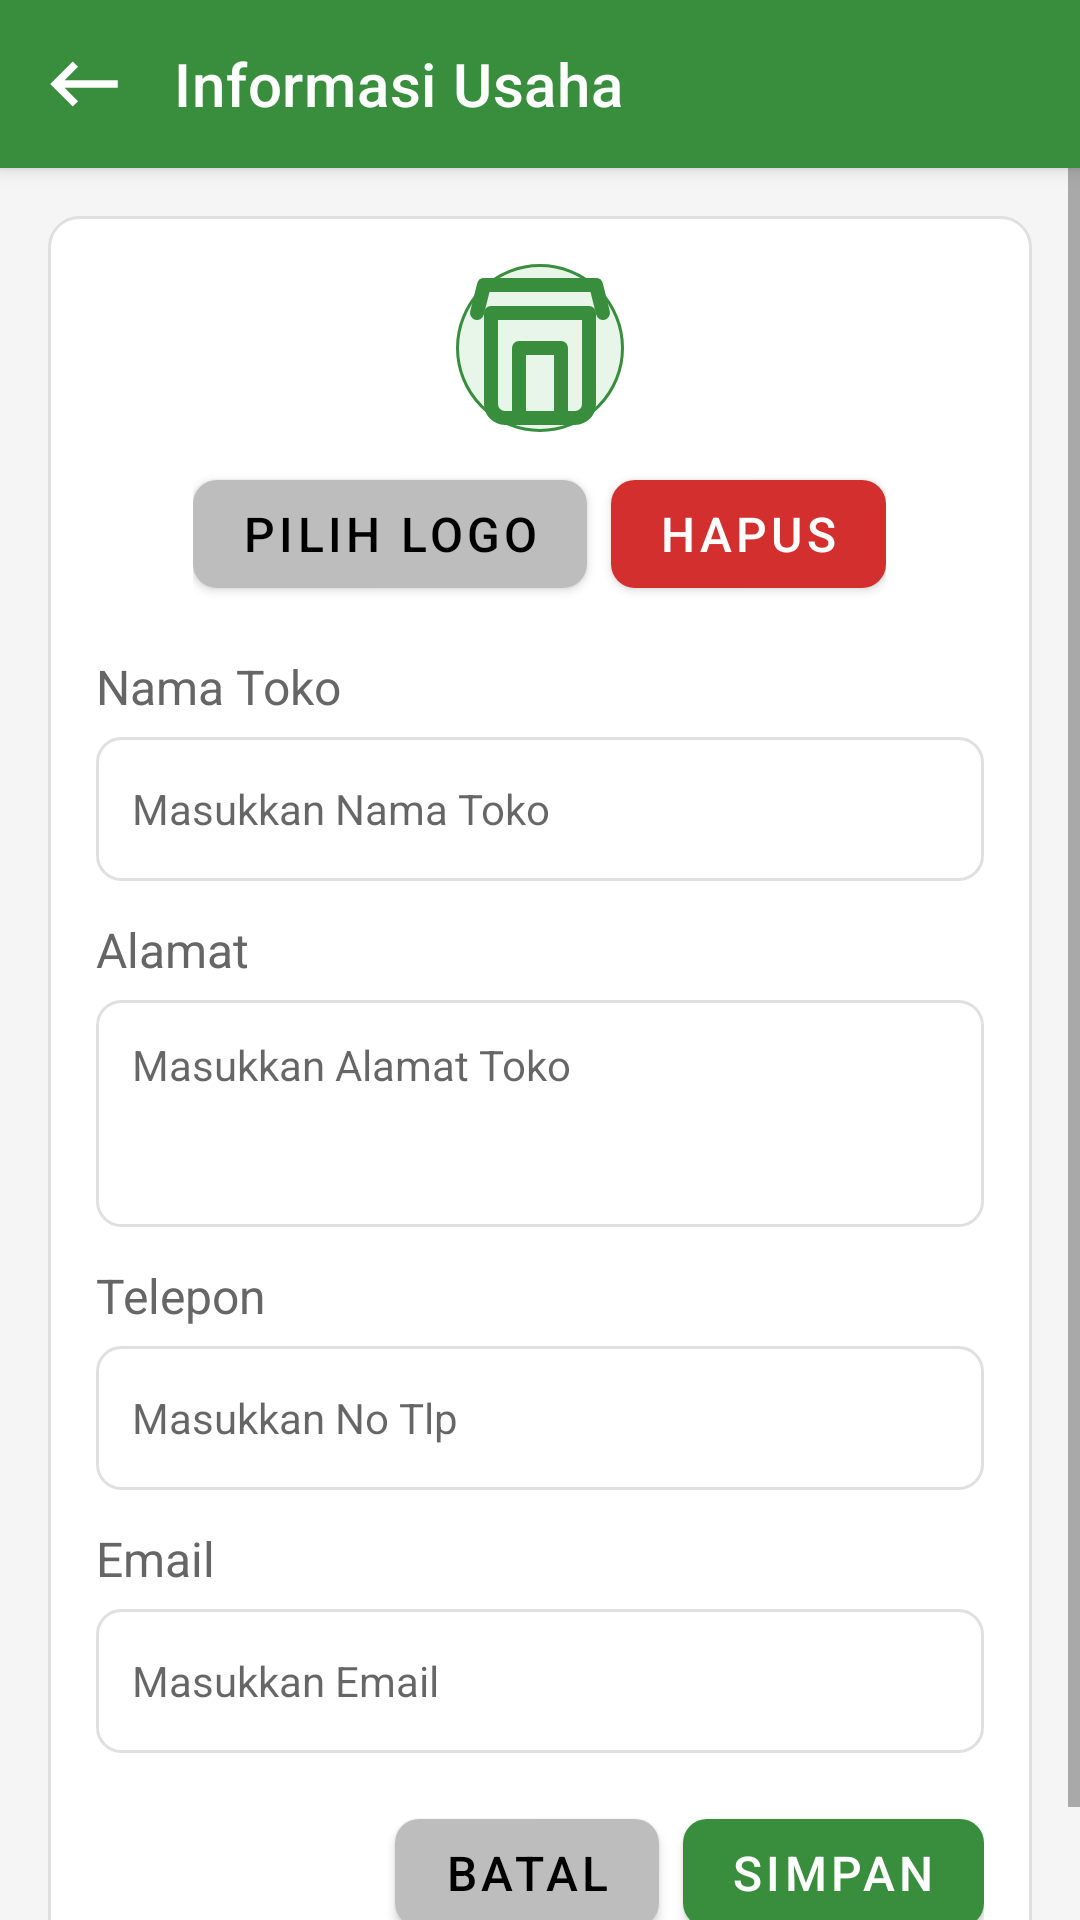

Named icons in this screenshot (1080 x 1920) and their centers, [x,y]:
store: [540,348]
